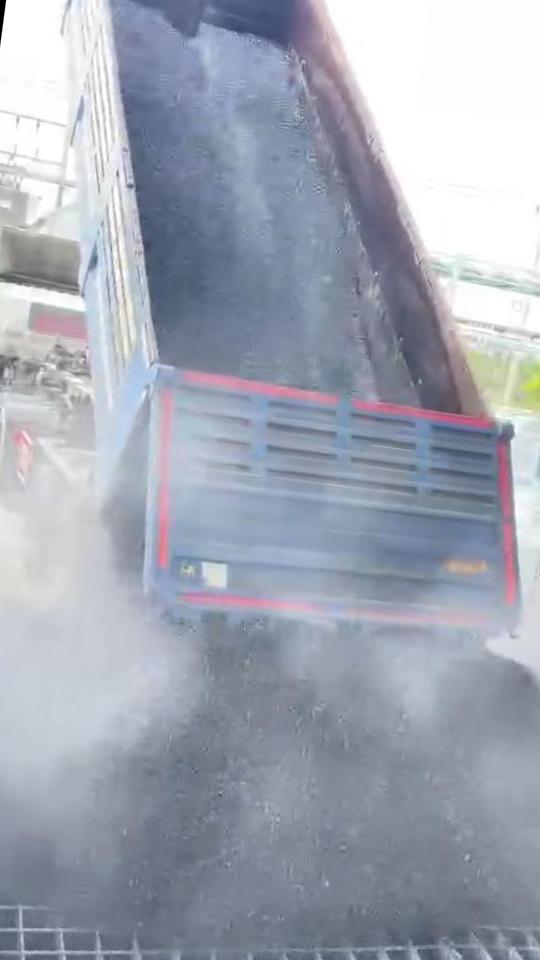gravel: (6, 627, 540, 945), (113, 0, 376, 396)
